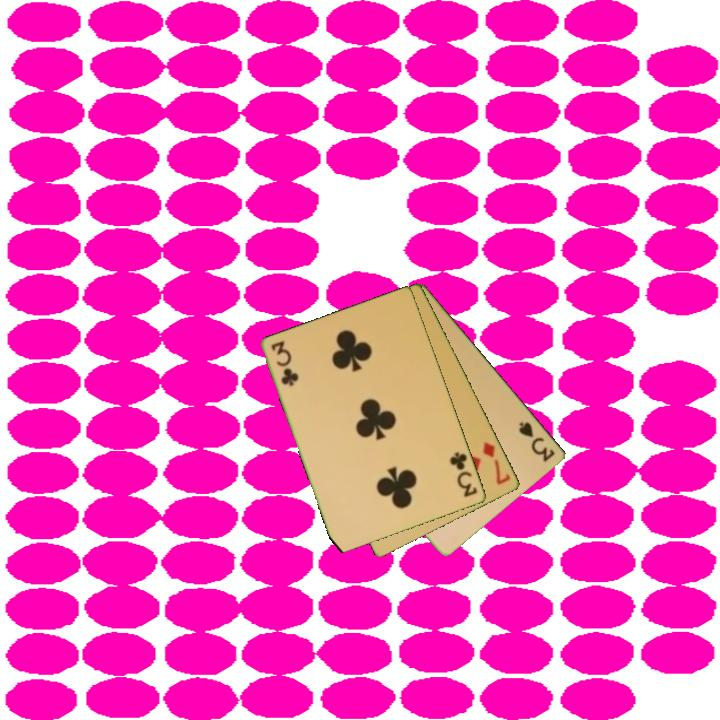3c: (446, 449, 481, 500), (268, 337, 301, 389)
3s: (515, 418, 558, 465)
7d: (479, 438, 514, 488)
